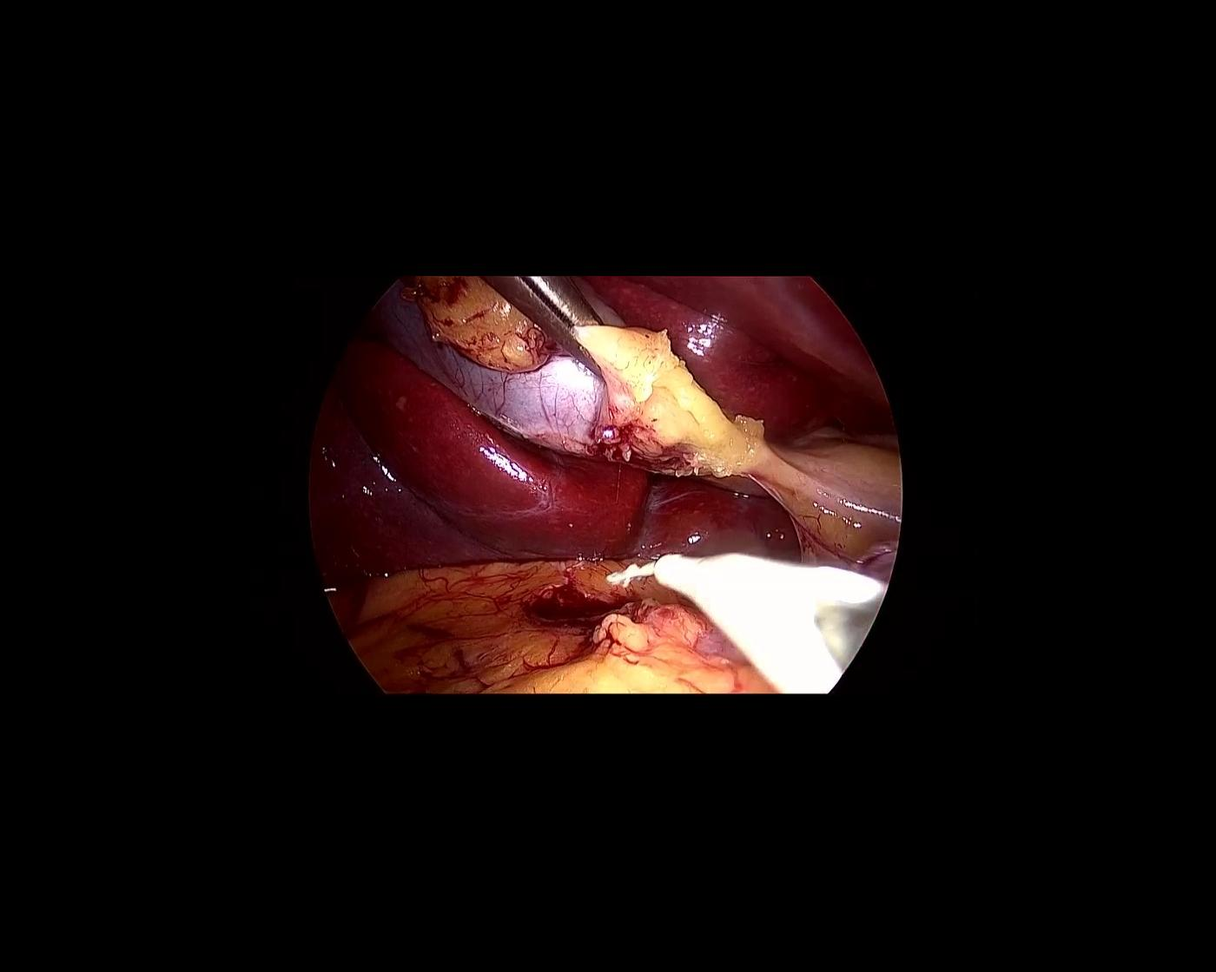Cautery: (588, 501, 888, 715)
Forceps: (480, 232, 639, 401)
Gallbladder: (360, 190, 782, 561)
Liver: (304, 321, 802, 584), (584, 277, 898, 445)
